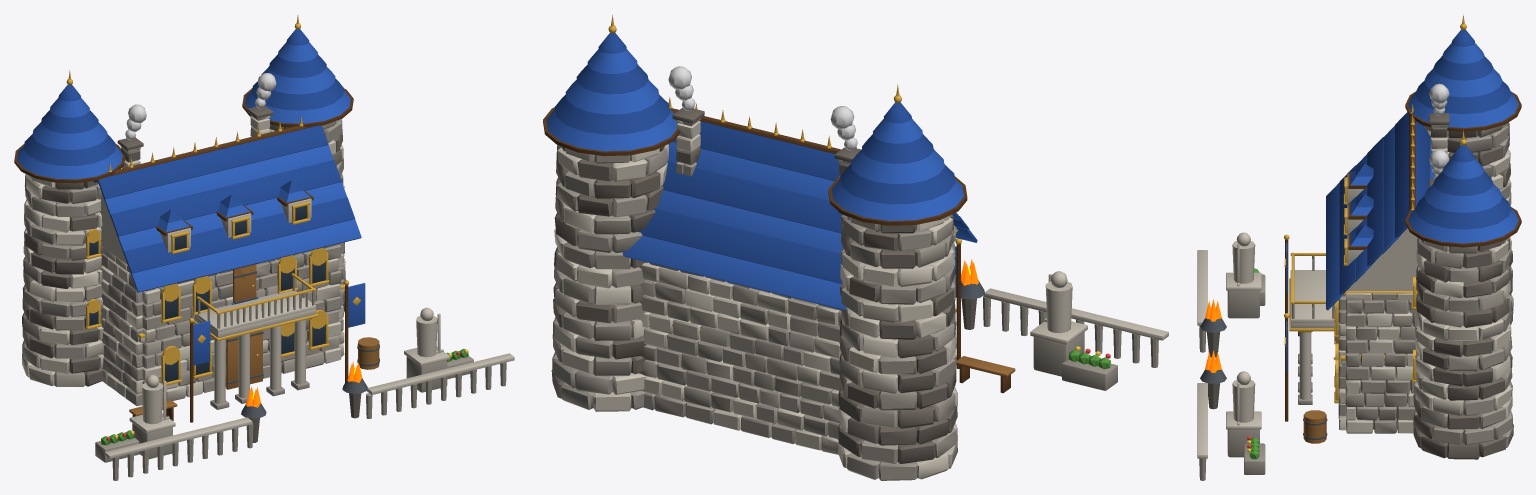
Rendered from budynek_glowny_poz18.glb.
3 renders of one model, left to right at view 1: azimuth 30°, elevation 25°; view 2: azimuth 150°, elevation 25°; view 3: azimuth 270°, elevation 25°, orthographic. The views are drawn at different scales.
Visible parts, largest first — view 1: budynek_glowny_poz18; view 2: budynek_glowny_poz18; view 3: budynek_glowny_poz18.
Boxes of the visible parts, box(x1,y1,x2,y2) form: budynek_glowny_poz18: box(14, 15, 514, 480); budynek_glowny_poz18: box(543, 15, 1168, 480); budynek_glowny_poz18: box(1197, 14, 1521, 480).
Bounding box in the file's own units: 13.6 × 9.59 × 9.08.
